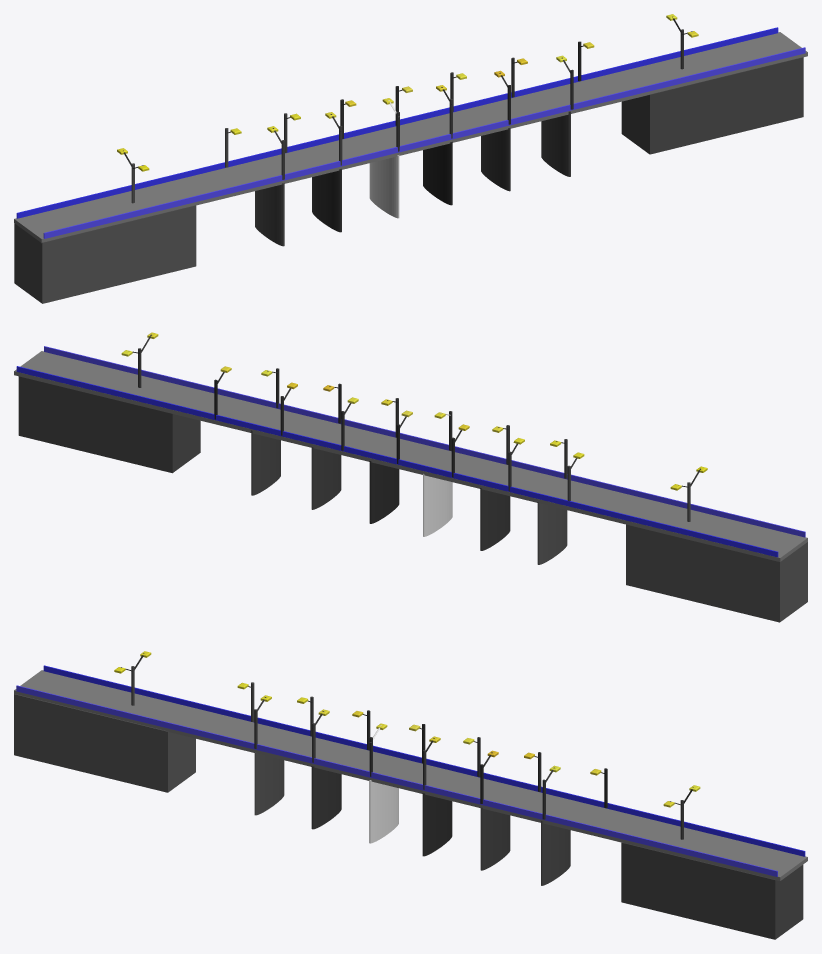
Rendered from bridges.gltf.
The picture shows the model from 3 angles, top to bottom: view 1: azimuth 30°, elevation 25°; view 2: azimuth 150°, elevation 25°; view 3: azimuth 330°, elevation 25°; orthographic projection.
Visible parts, largest first — view 1: Cube, Cube.002, Cube.001, Cube.015, Cube.004, Cube.003, Cylinder.008, Cylinder, Cylinder.004, Cylinder.002, Cylinder.001, Cylinder.022; view 2: Cube, Cube.002, Cube.001, Cube.003, Cube.004, Cube.015, Cylinder.004, Cylinder.002, Cylinder.001, Cylinder, Cylinder.008, Cylinder.022; view 3: Cube.015, Cube, Cube.001, Cube.002, Cube.004, Cube.003, Cylinder.001, Cylinder.004, Cylinder.002, Cylinder, Cylinder.008, Cylinder.006.
Boxes of the visible parts, x1,y1,x2,y2 form: Cube: [15, 33, 804, 242]; Cube.002: [14, 205, 196, 303]; Cube.001: [621, 57, 803, 154]; Cube.015: [14, 32, 807, 242]; Cube.004: [43, 47, 805, 238]; Cube.003: [16, 27, 778, 218]; Cylinder.008: [369, 155, 399, 218]; Cylinder: [541, 111, 570, 176]; Cylinder.004: [255, 182, 284, 246]; Cylinder.002: [423, 141, 452, 205]; Cylinder.001: [481, 127, 510, 191]; Cylinder.022: [312, 168, 341, 232]; Cube: [17, 352, 806, 561]; Cube.002: [626, 524, 807, 622]; Cube.001: [18, 376, 200, 473]; Cube.003: [16, 366, 778, 557]; Cube.004: [44, 346, 805, 537]; Cube.015: [14, 351, 807, 561]; Cylinder.004: [537, 502, 567, 564]; Cylinder.002: [369, 461, 399, 523]; Cylinder.001: [311, 446, 341, 509]; Cylinder: [251, 430, 280, 495]; Cylinder.008: [423, 474, 452, 536]; Cylinder.022: [481, 488, 510, 550]; Cube.015: [14, 670, 807, 880]; Cube: [15, 670, 800, 879]; Cube.001: [621, 842, 803, 939]; Cube.002: [14, 694, 195, 792]; Cube.004: [16, 685, 777, 876]; Cube.003: [43, 665, 805, 856]; Cylinder.001: [480, 807, 510, 870]; Cylinder.004: [254, 752, 284, 815]; Cylinder.002: [422, 793, 452, 856]; Cylinder: [541, 820, 570, 885]; Cylinder.008: [369, 780, 398, 843]; Cylinder.006: [312, 766, 341, 829].
Bounding box in the file's own units: 78.51 × 11 × 5.11.
